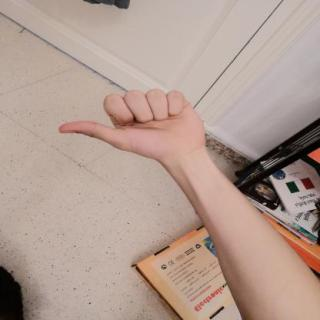DAD: (47, 82, 211, 166)
